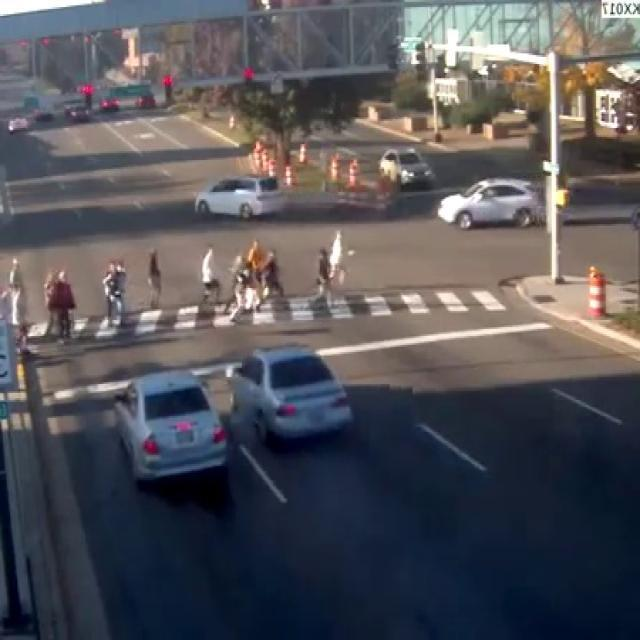car: (114, 371, 226, 480), (230, 345, 350, 439), (436, 178, 542, 227), (193, 175, 282, 216), (387, 146, 433, 184)
red_light: (78, 81, 93, 107), (160, 71, 172, 103), (240, 64, 253, 82)
stop_line: (314, 320, 548, 355), (48, 378, 128, 400), (189, 360, 238, 376)
